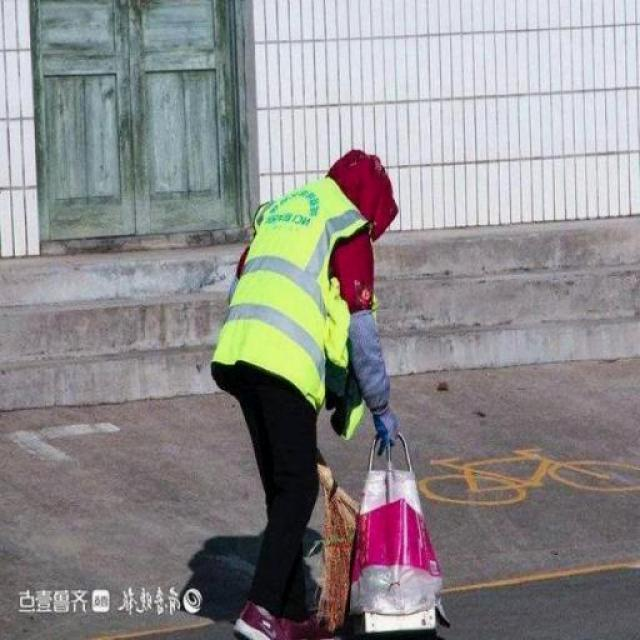hand_glove: (366, 402, 410, 462)
head_nohelmet: (327, 142, 402, 238)
person: (203, 127, 450, 640)
shoes: (232, 602, 293, 640)
vest: (209, 176, 379, 404)
